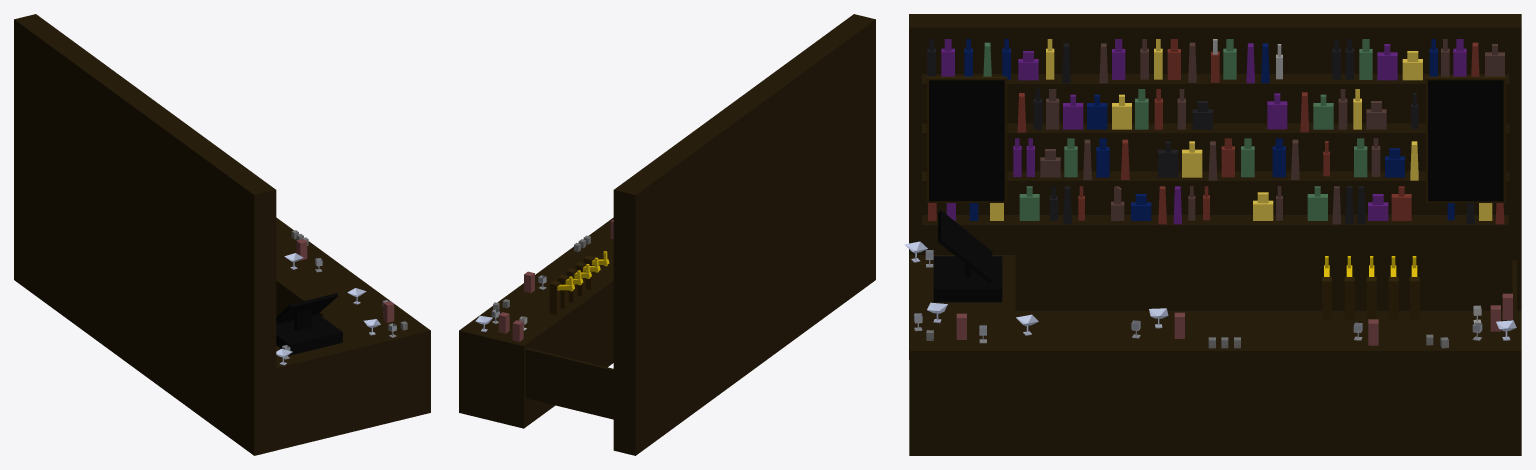
File: Bar.fbx
3 views of the same model, side by side, from view 1: azimuth 30°, elevation 25°; view 2: azimuth 150°, elevation 25°; view 3: azimuth 270°, elevation 25° (orthographic). The views are drawn at different scales.
Parts seen in each view (by area): view 1: pCube146; view 2: pCube146; view 3: pCube146.
Boxes of the visible parts, x1,y1,x2,y2 form: pCube146: (14,14,430,455); pCube146: (459,14,875,455); pCube146: (904,14,1521,455).
Size of the model in its own units: 3.77 by 5.32 by 8.96.
